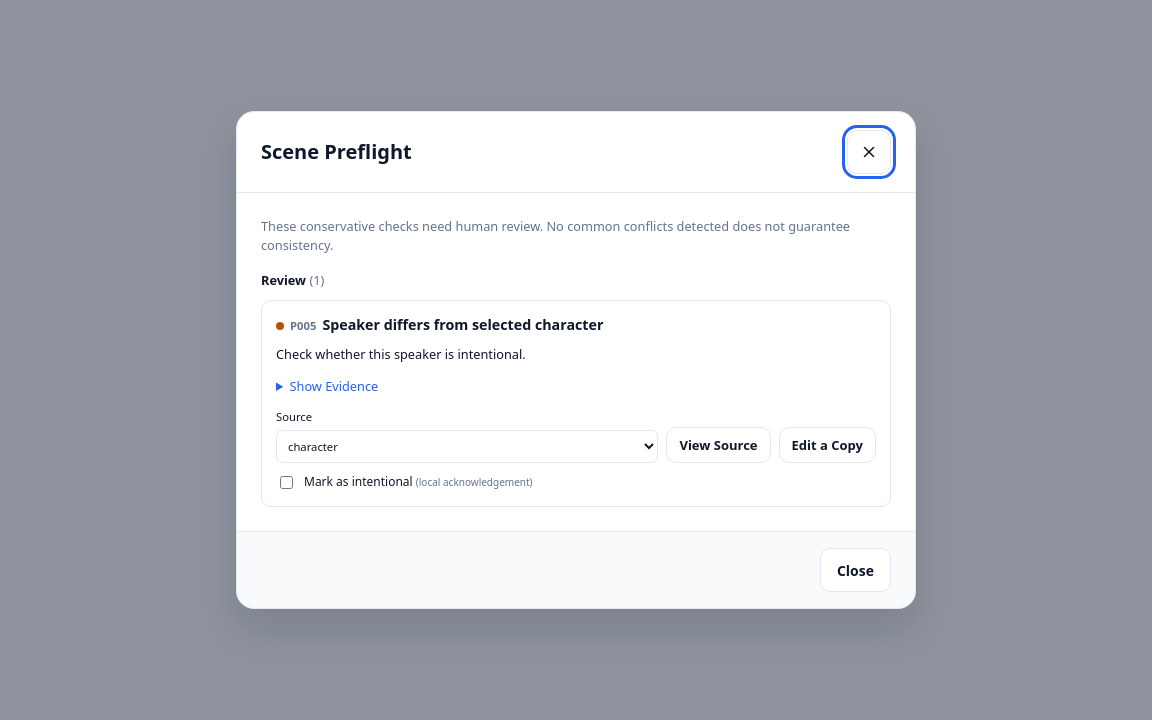
Test case: keeps a genuine Aya Santos / Joy P005 finding with exact evidence and preserves the source
The image size is (1152, 720).
Click the heading "Show Evidence" at (334, 386), box top-left (290, 377), bottom-right (378, 395)
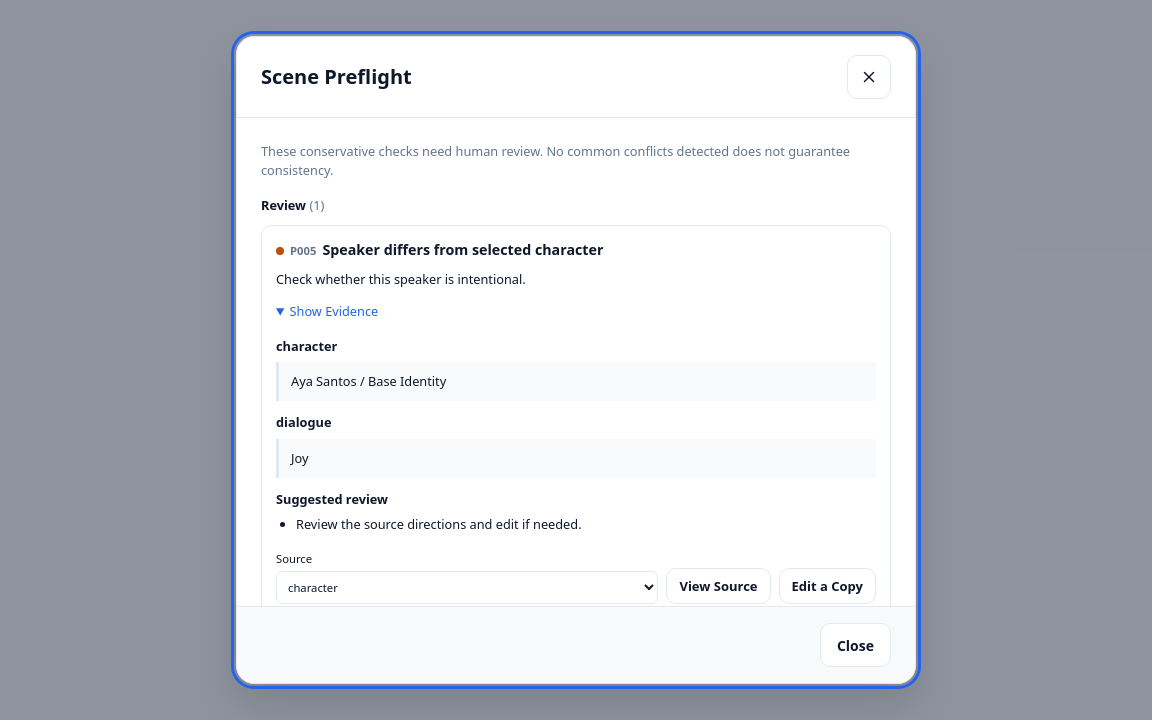
Result: the dialog shows "Aya Santos / Base Identity" at top-left (291, 372), bottom-right (446, 390)
Result: the dialog shows "Joy" at top-left (291, 449), bottom-right (308, 467)
